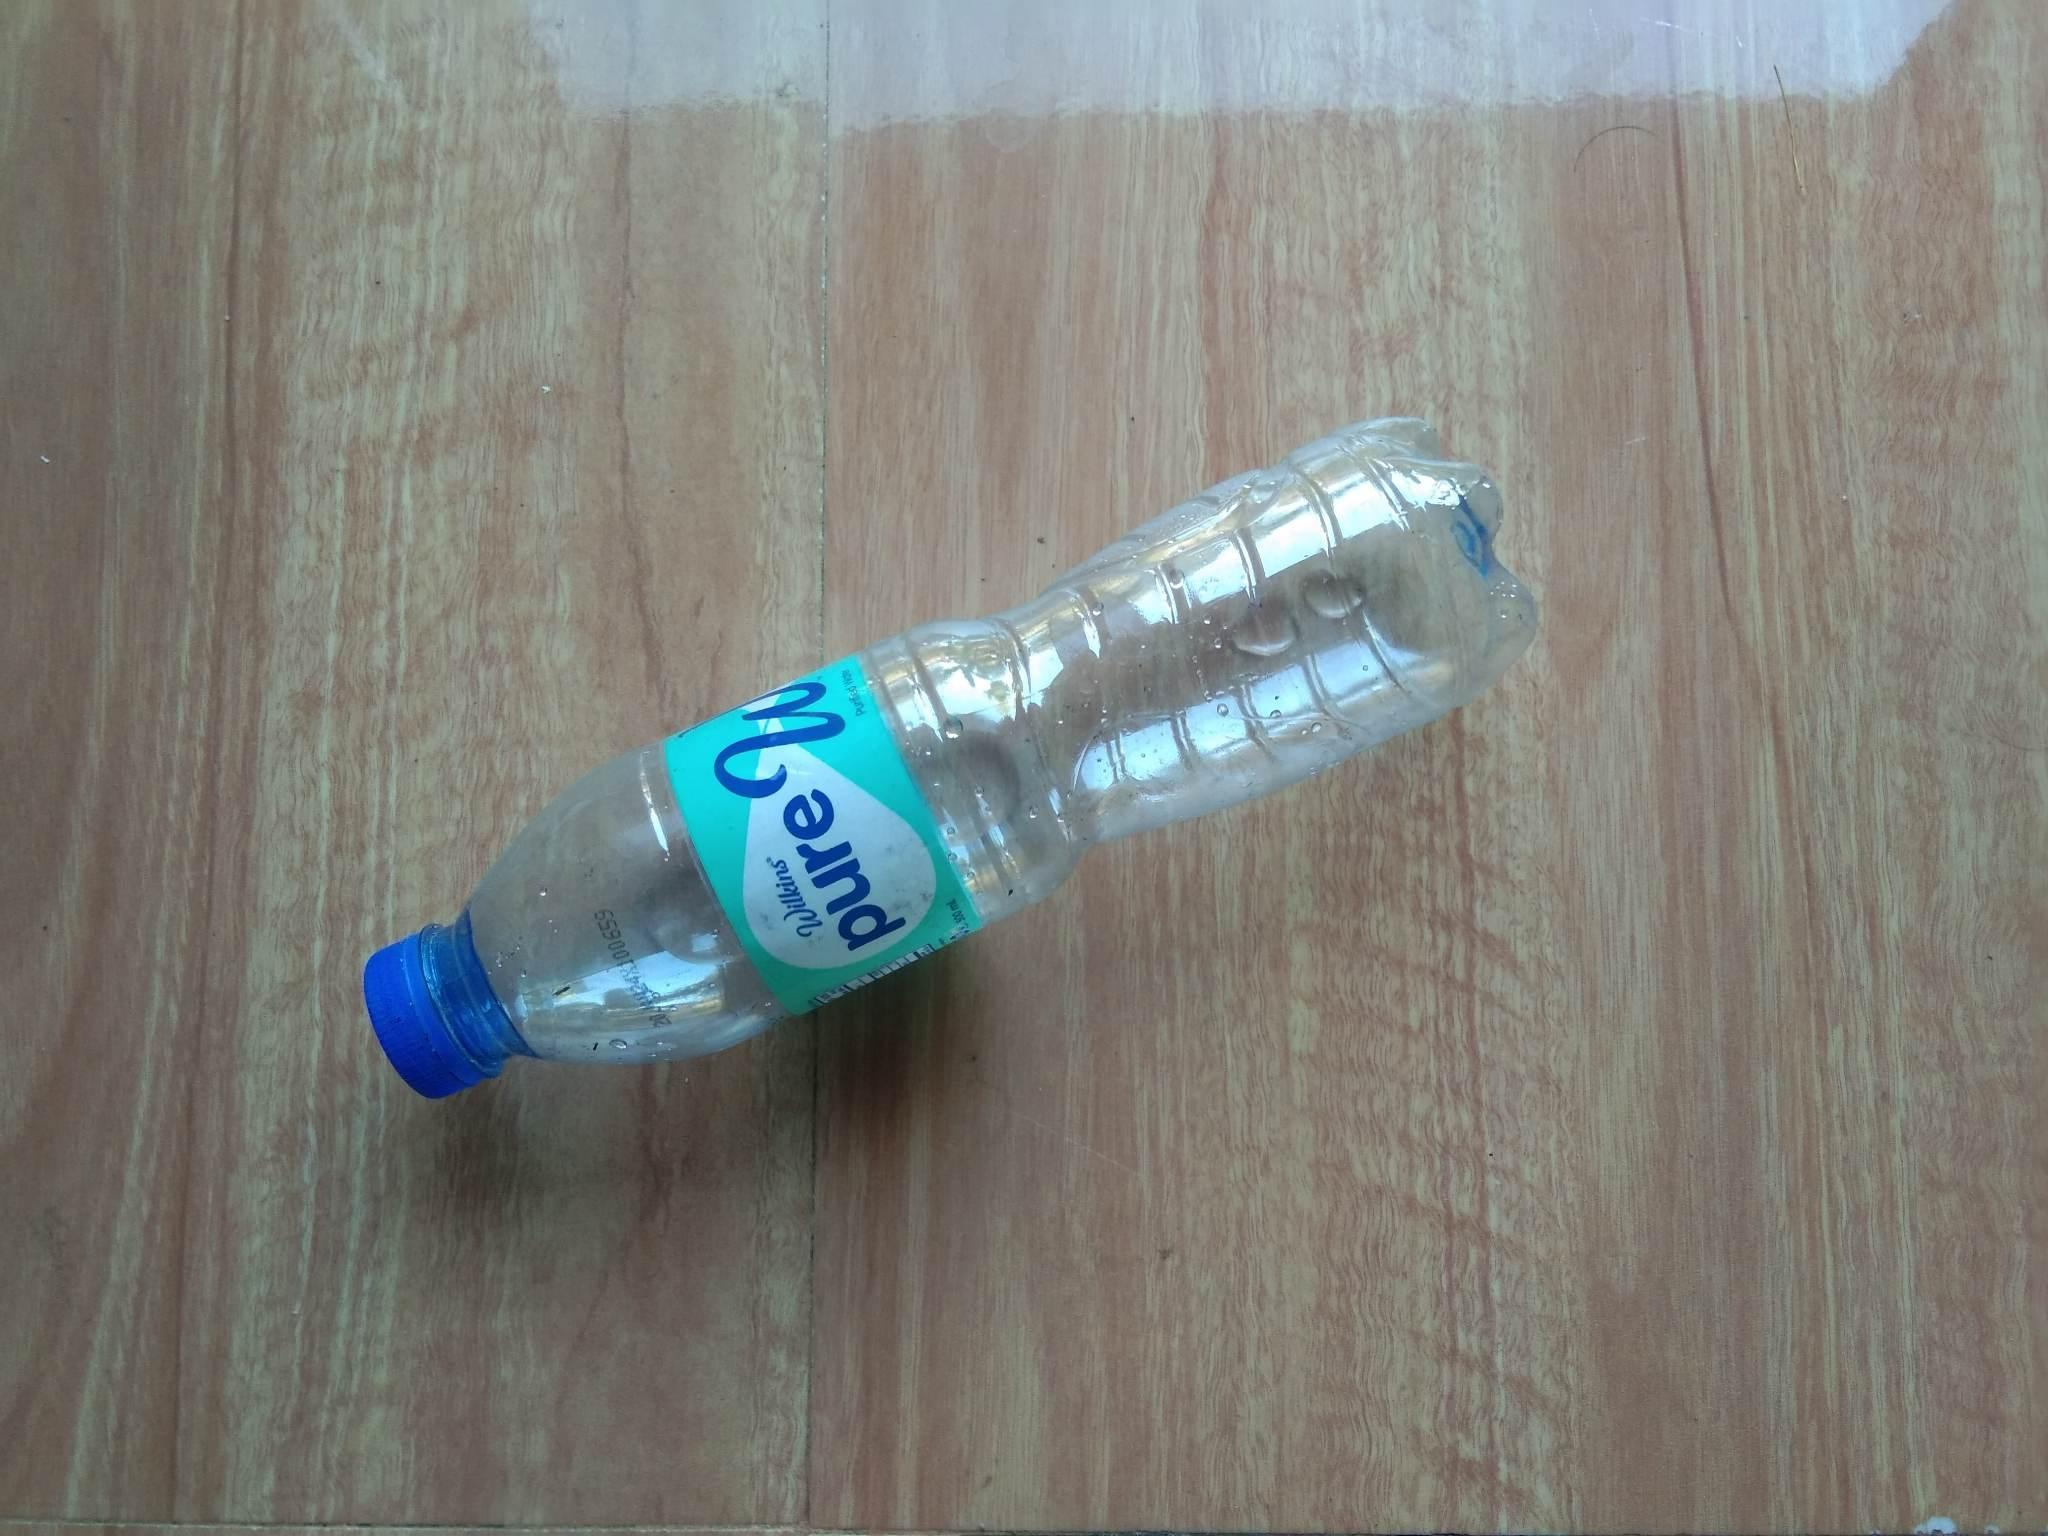plastic: (313, 361, 1546, 1204)
